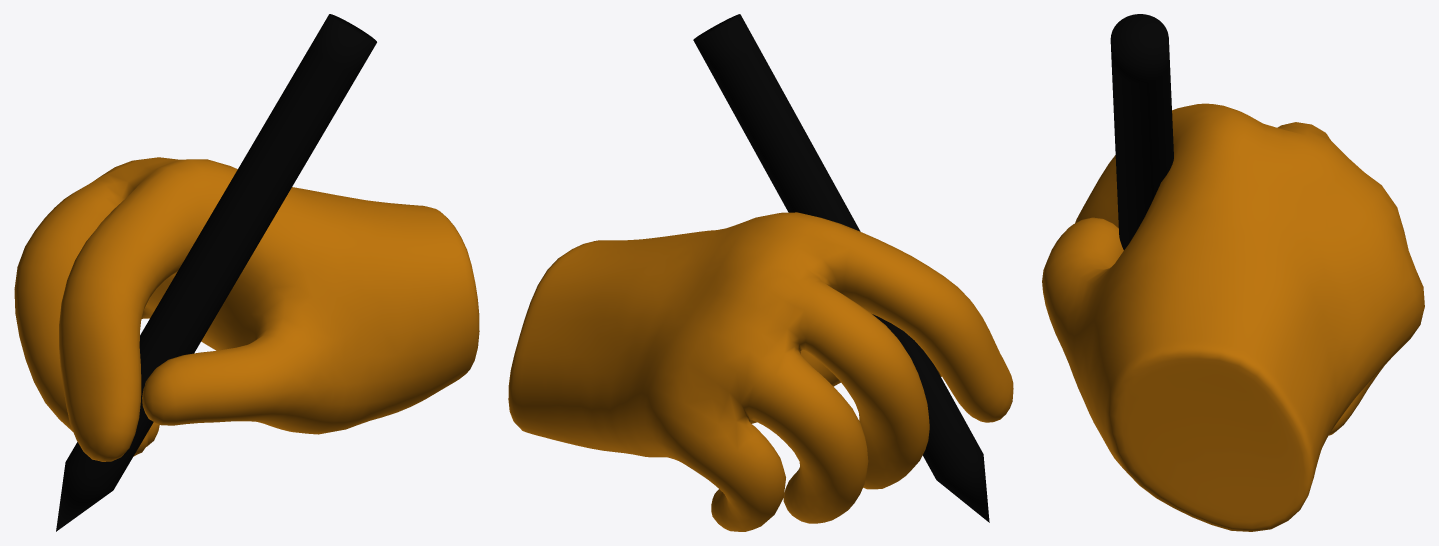
The model's file is writting.FBX.
3 renders of one model, left to right at view 1: azimuth 30°, elevation 25°; view 2: azimuth 150°, elevation 25°; view 3: azimuth 270°, elevation 25°, orthographic. The views are drawn at different scales.
Parts seen in each view (by area): view 1: Group43648, Group5019; view 2: Group43648, Group5019; view 3: Group43648, Group5019.
Boxes of the visible parts, bbox=[...] form: Group43648: bbox=[14, 157, 479, 461]; Group5019: bbox=[56, 14, 376, 531]; Group43648: bbox=[508, 212, 1013, 531]; Group5019: bbox=[693, 14, 989, 522]; Group43648: bbox=[1042, 103, 1424, 531]; Group5019: bbox=[1110, 14, 1173, 249].
Bounding box in the file's own units: 16.35 × 16.61 × 12.21.
